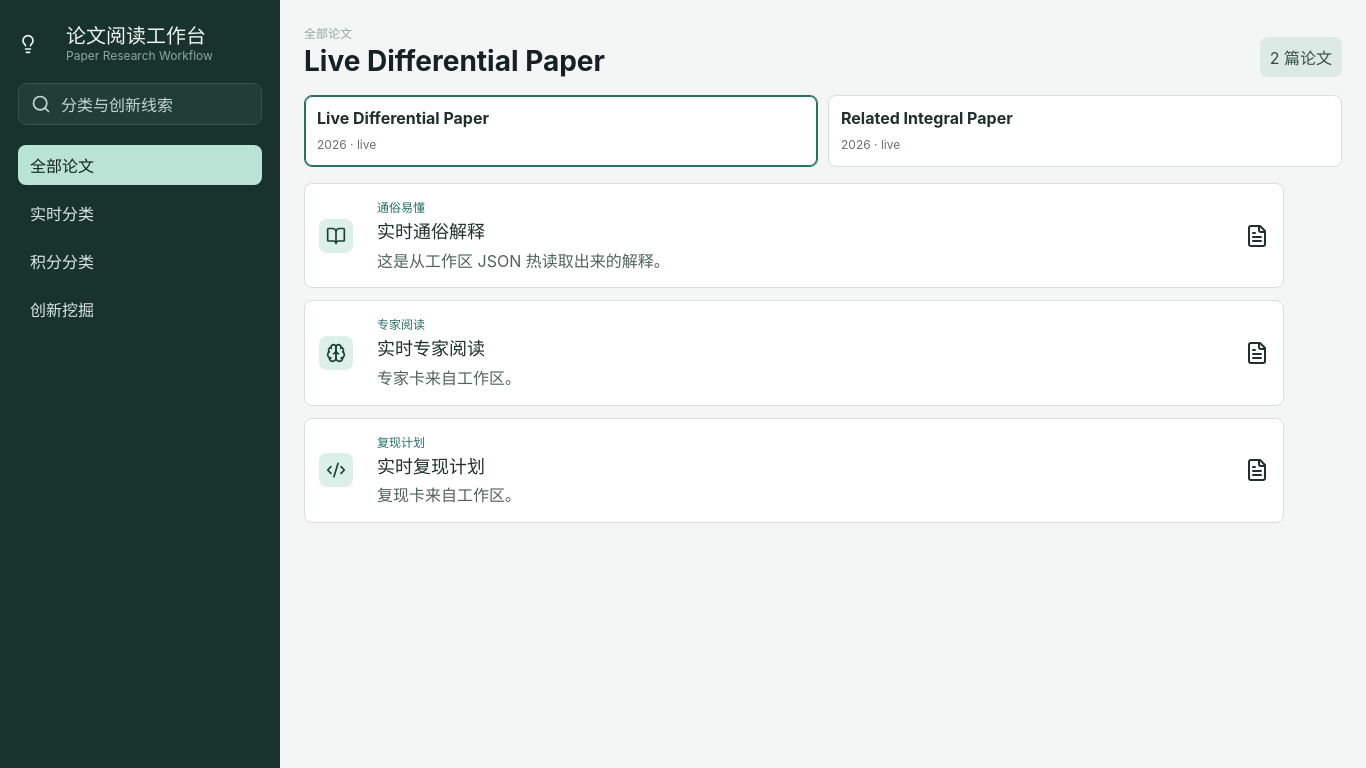
Paper research workbench › opens a full markdown document reader from a reading entry
Click the button "专家阅读 实时专家阅读 专家卡来自工作区。". click: (336,353)
box: [304,300,1284,406]
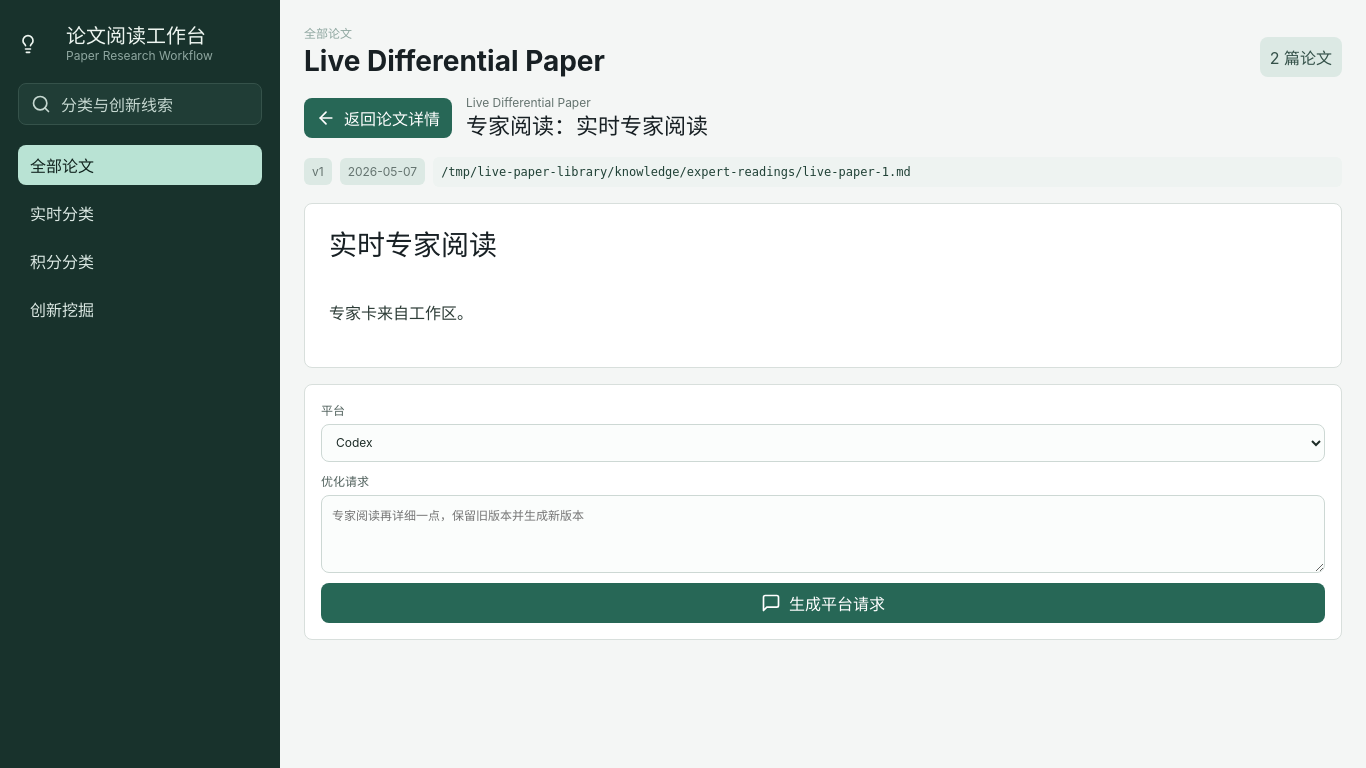
Check: the element named "Markdown 文档阅读器" shows "专家卡来自工作区", box [329,303,473,323]
Check: the button "返回论文详情" is shown, box [304,98,452,138]
